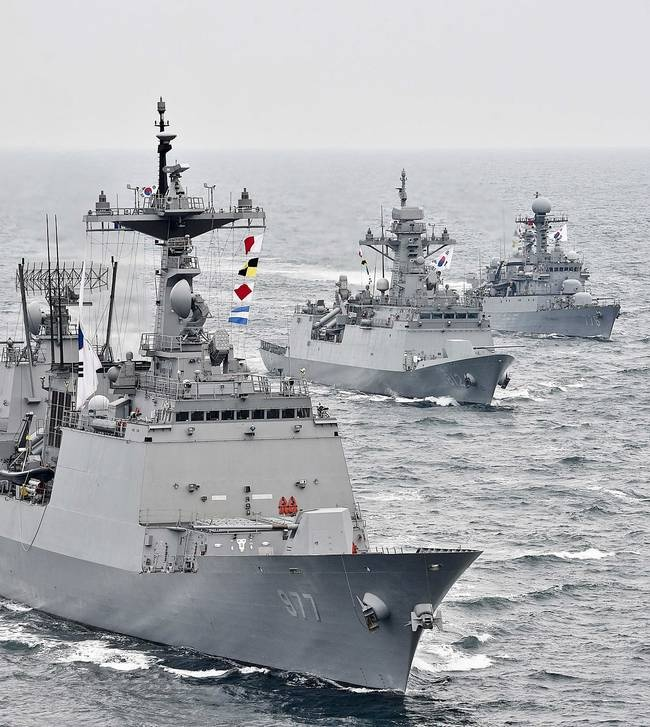warship: (1, 106, 488, 696), (265, 174, 526, 410), (413, 189, 623, 341)
